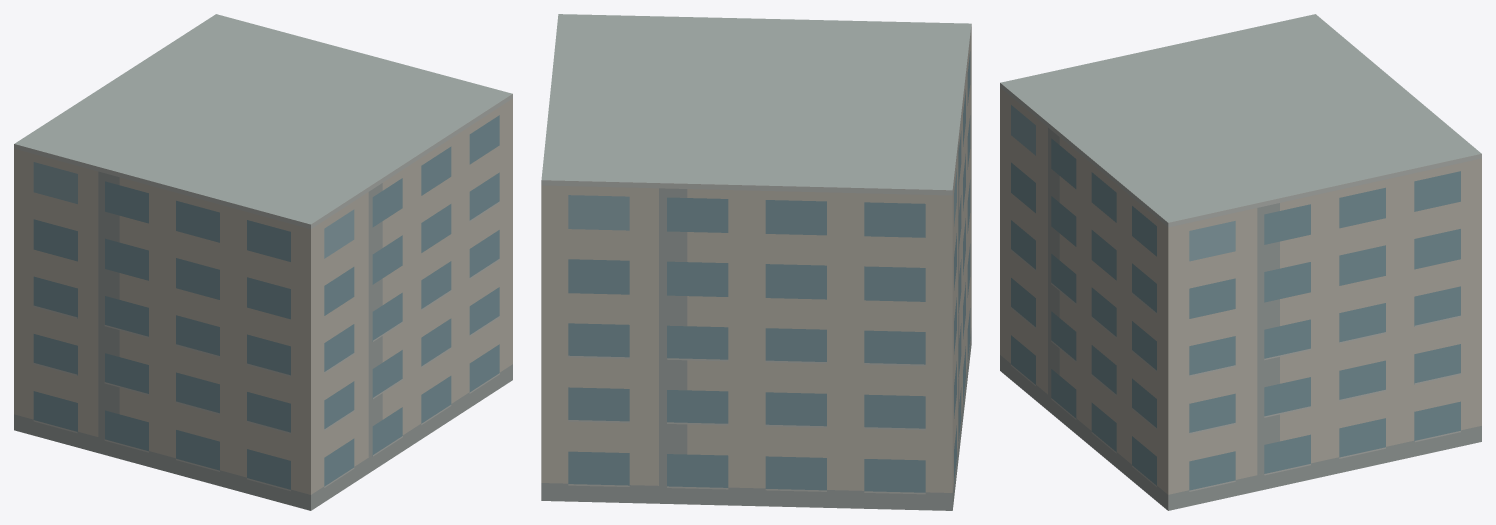
The model's file is survey-upis-32977937.glb.
3 views of the same model, side by side, from view 1: azimuth 30°, elevation 25°; view 2: azimuth 150°, elevation 25°; view 3: azimuth 270°, elevation 25° (orthographic). The views are drawn at different scales.
Parts seen in each view (by area): view 1: survey-upis-32977937.tmp; view 2: survey-upis-32977937.tmp; view 3: survey-upis-32977937.tmp.
Part boxes in pixels (<box>): survey-upis-32977937.tmp: <box>14,14,512,510</box>; survey-upis-32977937.tmp: <box>541,14,971,510</box>; survey-upis-32977937.tmp: <box>1000,14,1481,510</box>.
Bounding box in the file's own units: 23.25 × 14.95 × 22.67.
